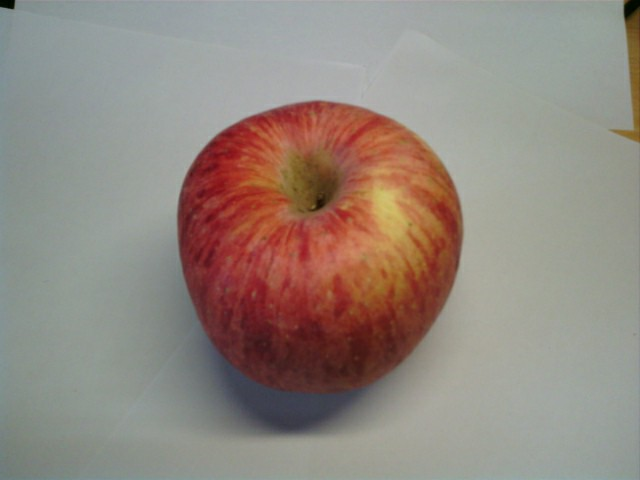normal_apple: (178, 99, 465, 395)
